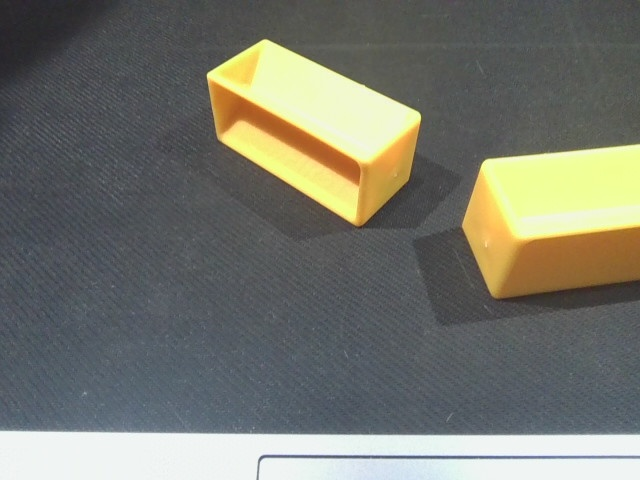YellowSample: (201, 37, 422, 231), (456, 144, 640, 302)
